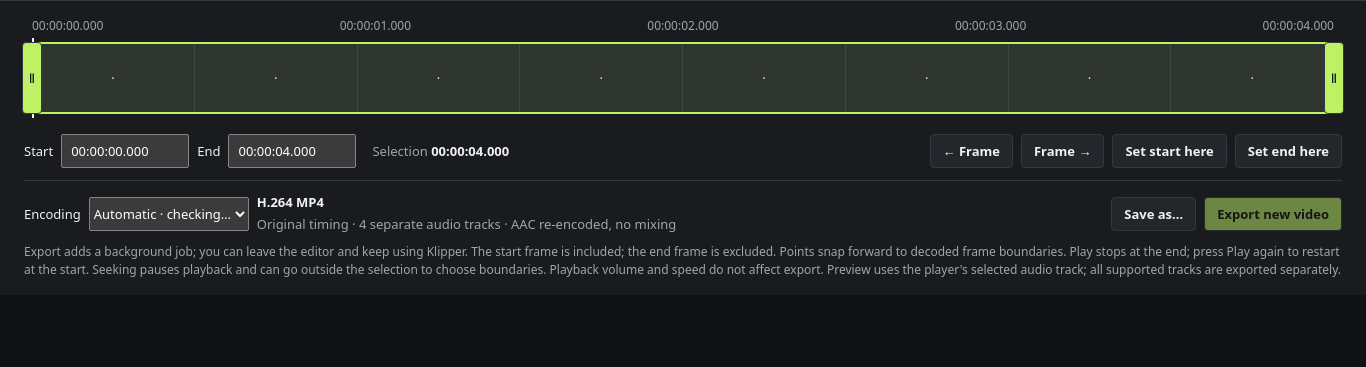
Test case: keeps genuine export failures visible without presenting a success action
Click the button "Save as…": coordinates (1154, 214) 1111,197 -> 1196,231
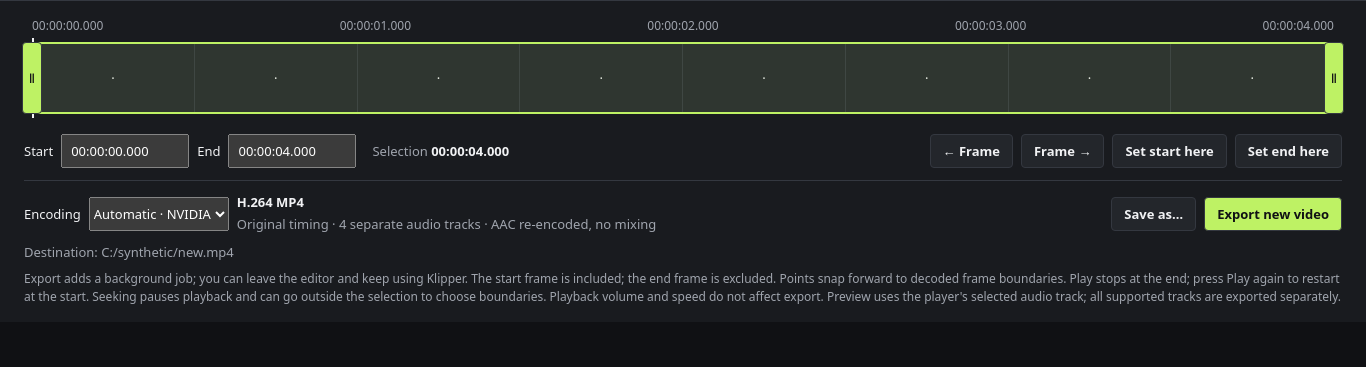
Expected: the text "Destination: C:/synthetic/new.mp4" is shown, 24,242 -> 234,260
Click the button "Export new video": coordinates (1273, 214) 1204,197 -> 1342,231
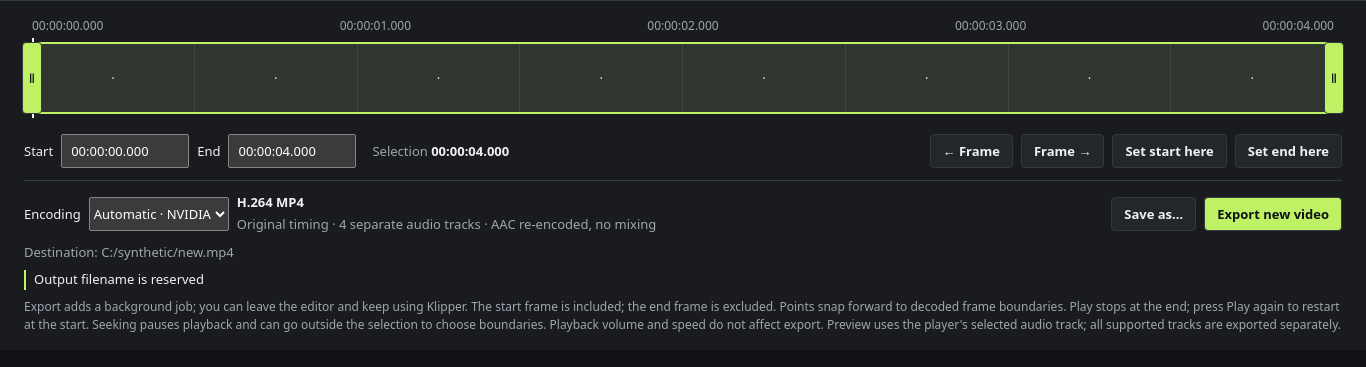
Expected: the text "Output filename is reserved" is shown, 24,270 -> 1342,290
